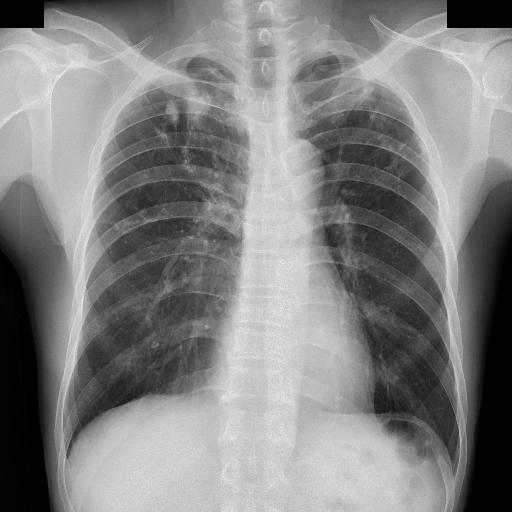Nodule-Mass: (62, 177, 170, 231), (148, 336, 156, 346), (200, 321, 208, 327)
Pulmonary fibrosis: (90, 20, 180, 144), (322, 36, 390, 126), (56, 206, 128, 224), (140, 70, 148, 94)
